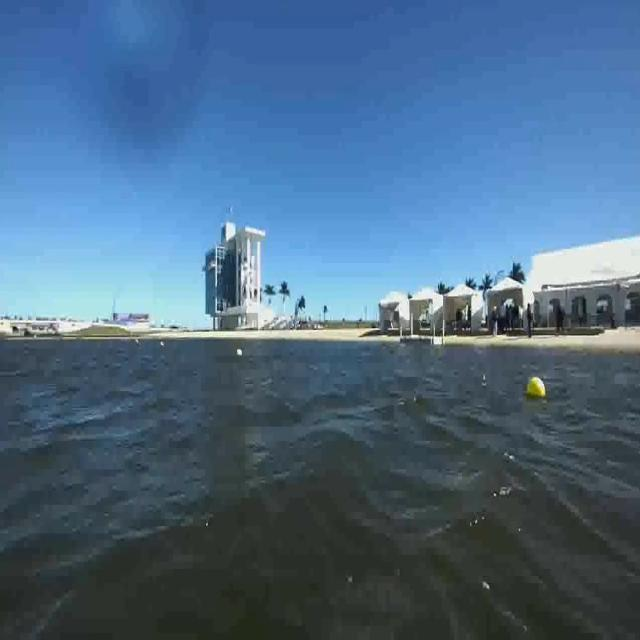yellow-buoy: (528, 374, 549, 398)
